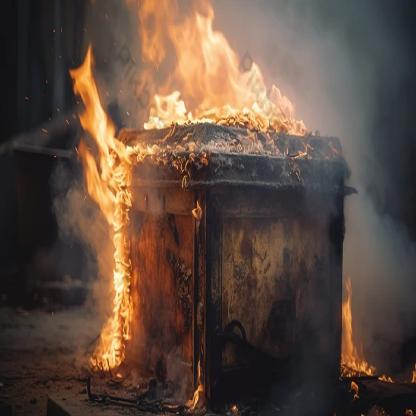fire: (135, 0, 317, 141), (67, 62, 138, 376), (342, 294, 371, 402)
smoke: (230, 0, 416, 359)
